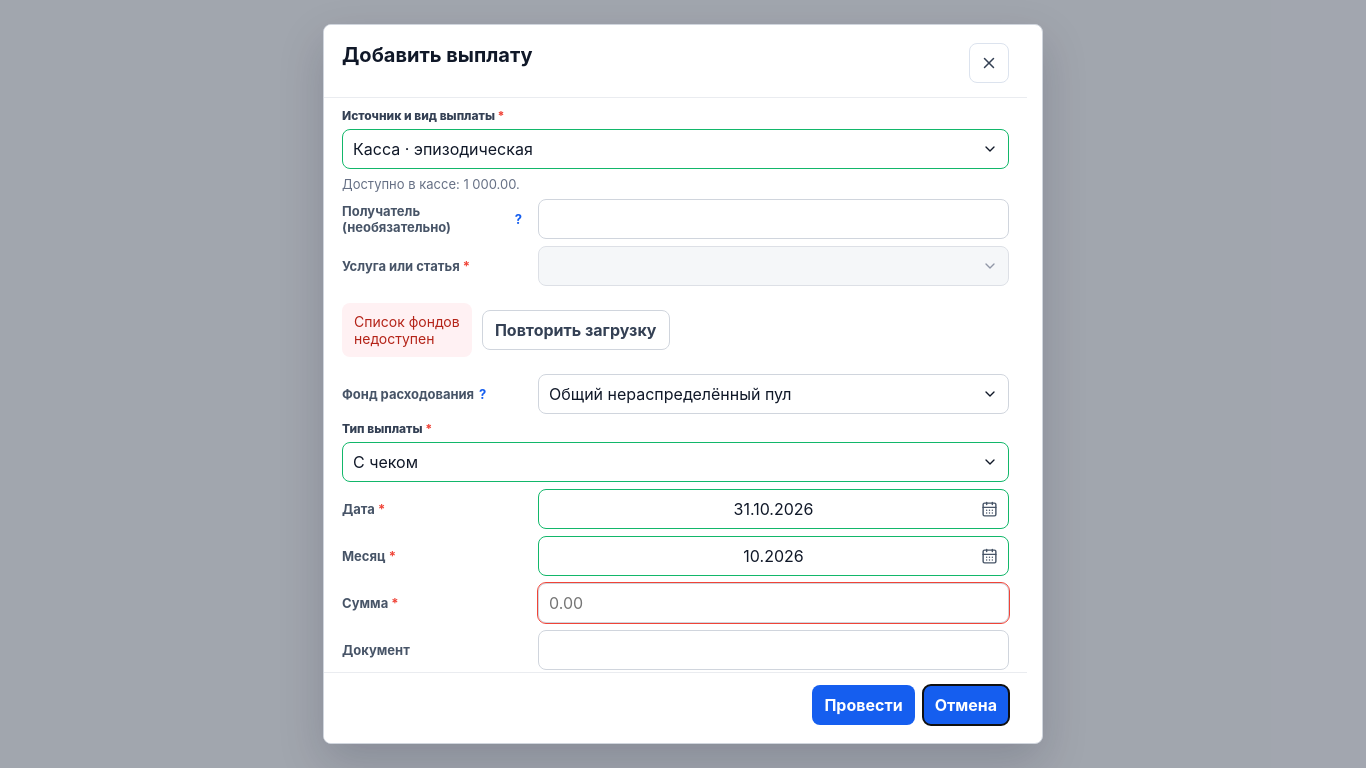
Test: NewExpensePrototypeDialog › shows a fund loading failure and retries while retaining the default unallocated selection
Expected: the message "Список фондов недоступен" is shown, x1=342 y1=303 x2=472 y2=357
Expected: the dropdown named "Фонд расходования" reads "Общий нераспределённый пул", x1=538 y1=374 x2=1009 y2=414
Step 1. Click the button "Повторить загрузку" → (576, 330), box x1=482 y1=310 x2=670 y2=350
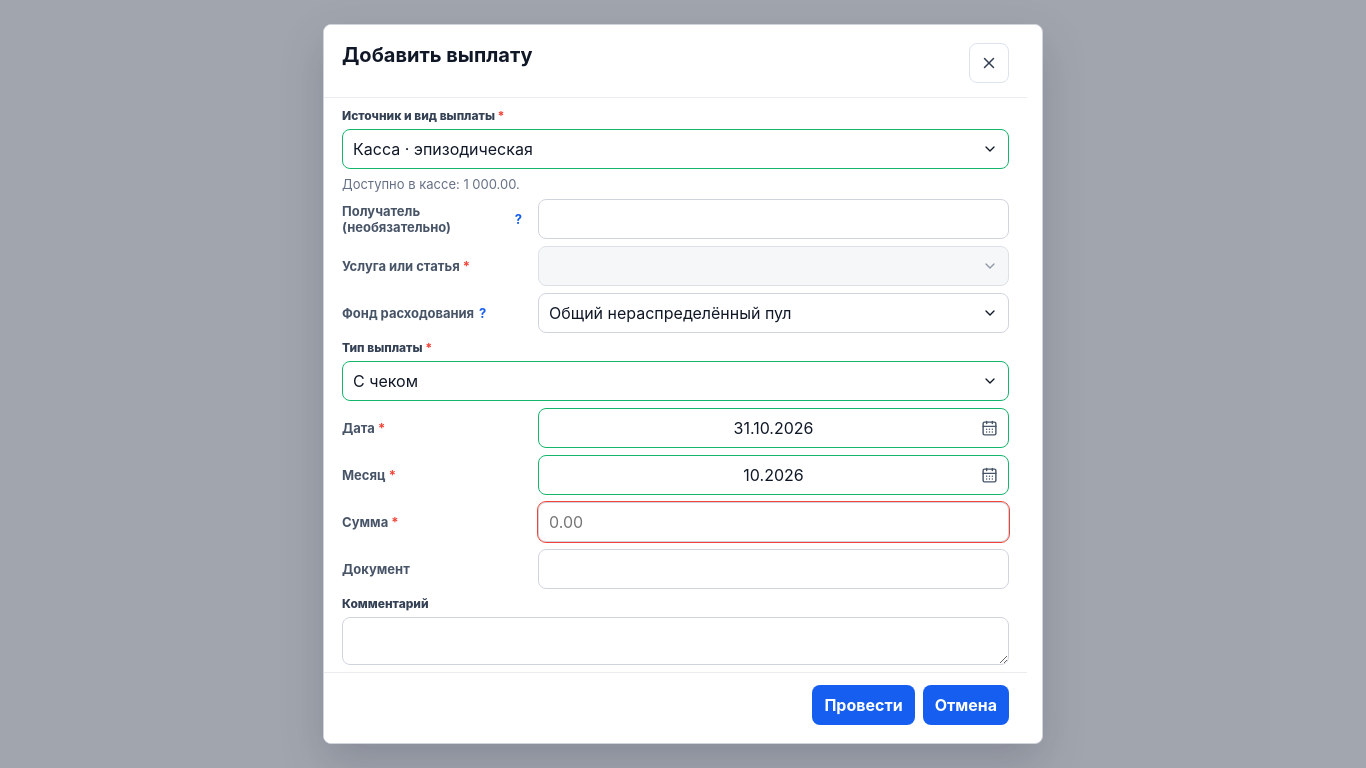
Expected: the message "Список фондов недоступен" is gone
Step 2. Click the dropdown named "Фонд расходования" → (774, 313), box x1=538 y1=293 x2=1009 y2=333
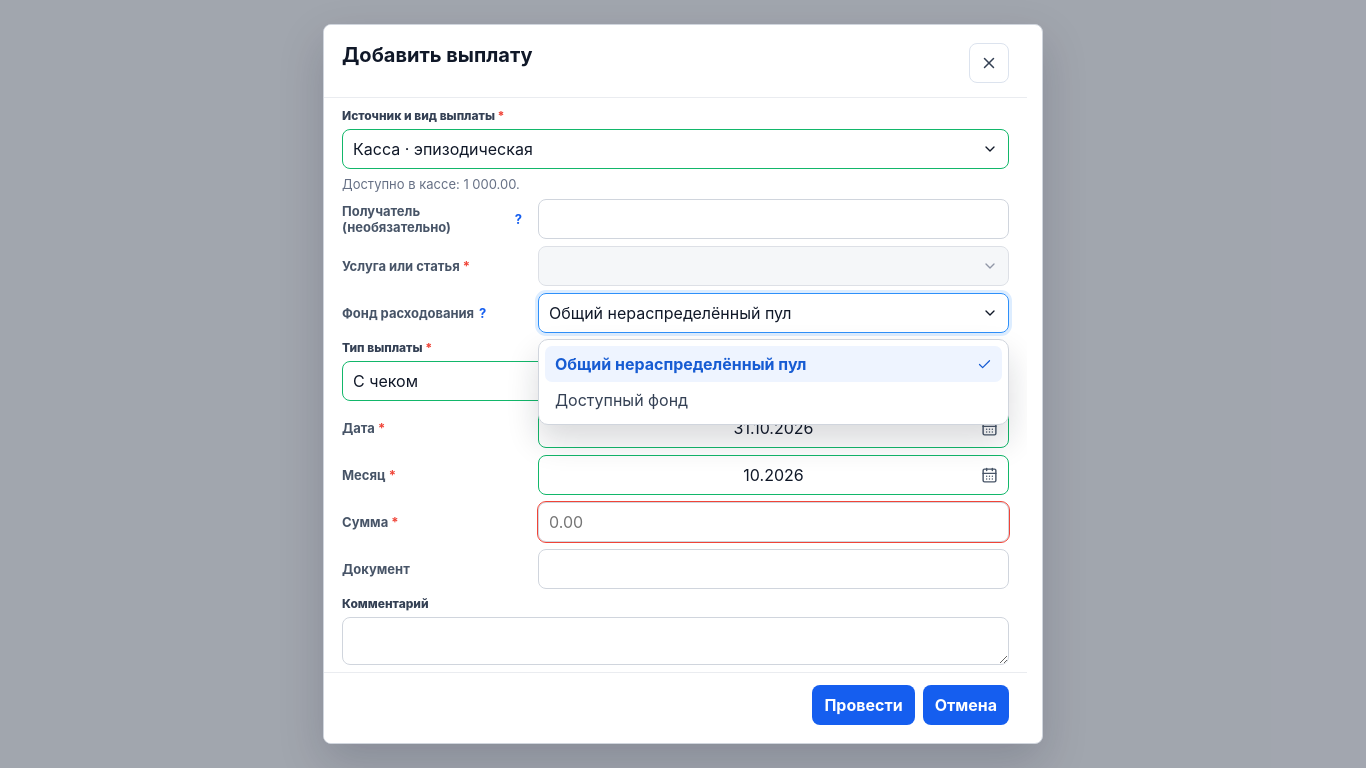
Expected: the option "Доступный фонд" is shown, x1=545 y1=382 x2=1002 y2=418
